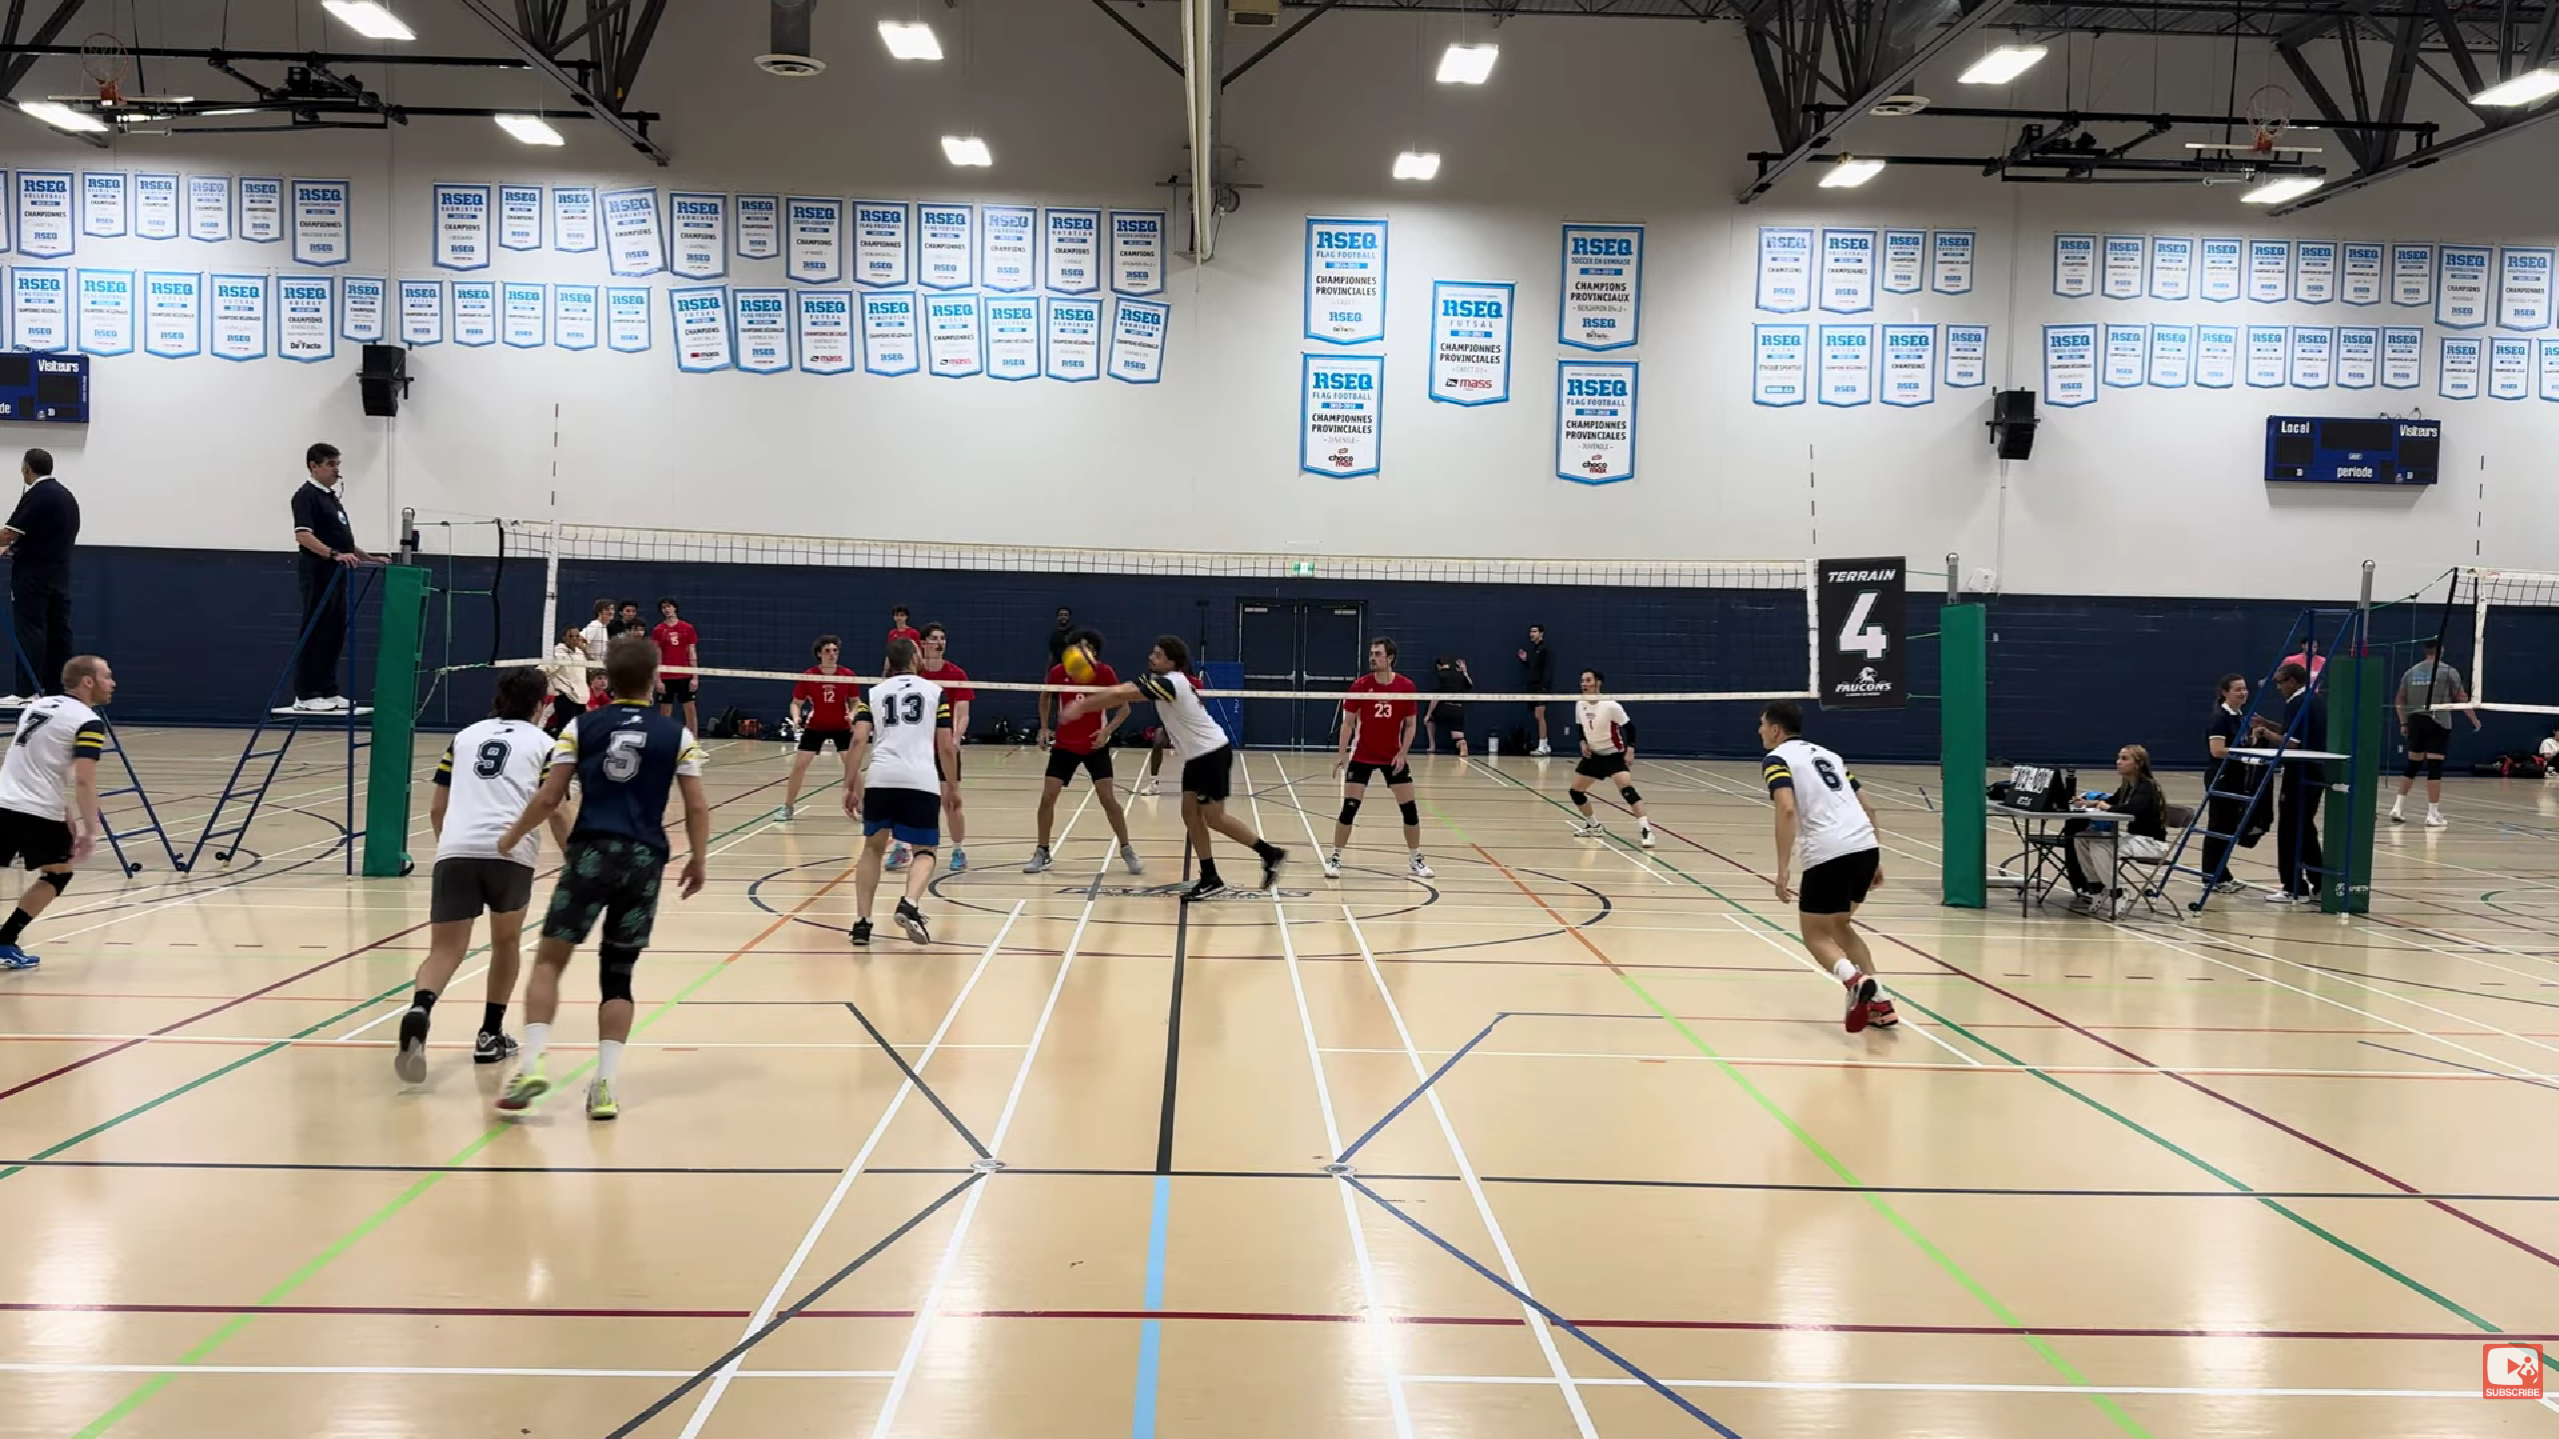Ball: (1060, 643, 1097, 685)
